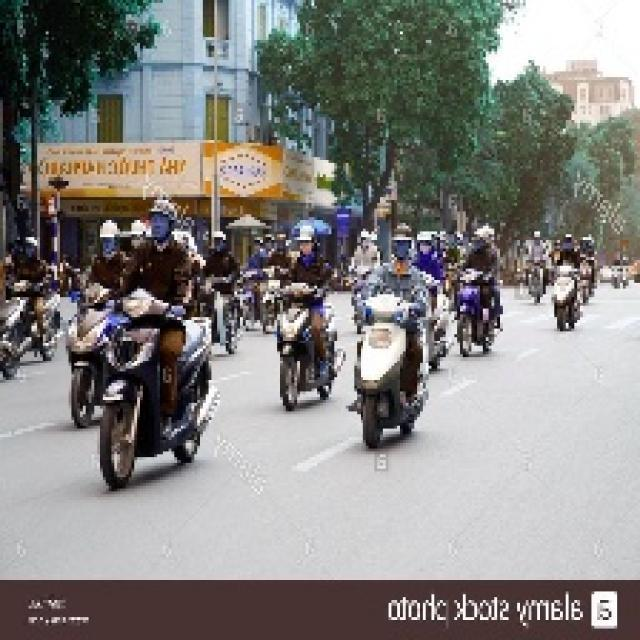bike: (98, 302, 222, 496), (354, 295, 440, 449), (268, 278, 342, 399), (452, 262, 514, 362), (5, 258, 59, 369)
